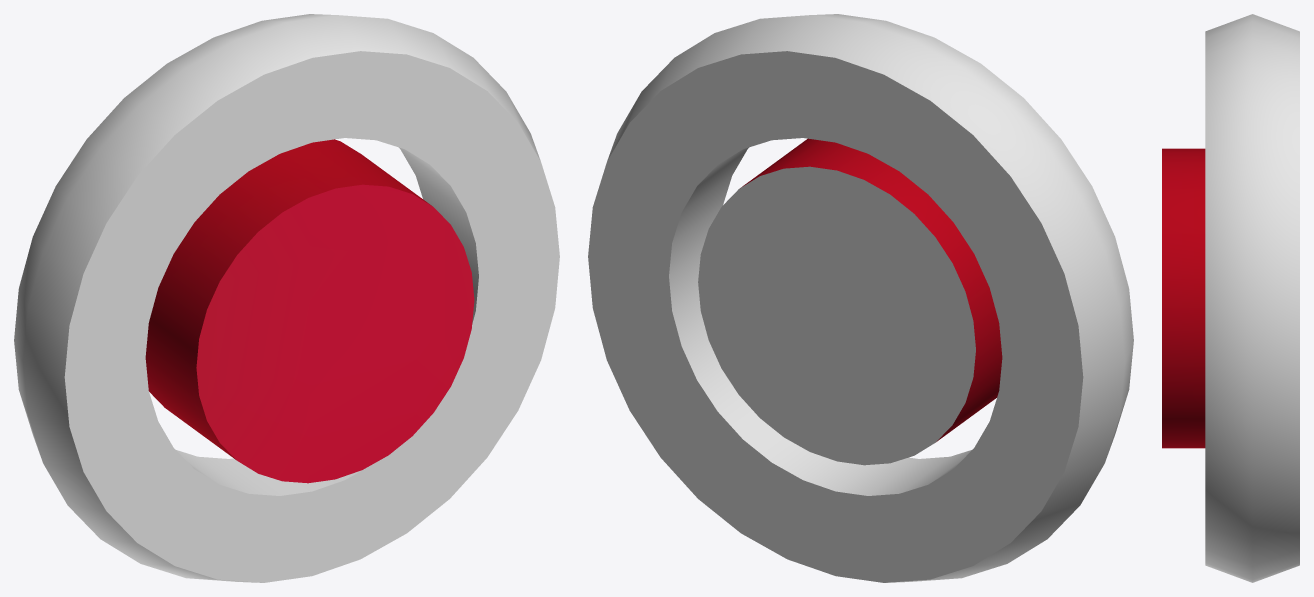
The model's file is e9cfb9fd-8a53-49a8-af6c-c248953678aa.glb.
The picture shows the model from 3 angles, left to right: view 1: azimuth 30°, elevation 25°; view 2: azimuth 150°, elevation 25°; view 3: azimuth 270°, elevation 25°; orthographic projection. The views are drawn at different scales.
Visible parts, largest first — view 1: radioTicked; view 2: radioTicked; view 3: radioTicked.
Boxes of the visible parts, left/top/right/bottom form: radioTicked: left=14, top=14, right=559, bottom=582; radioTicked: left=588, top=14, right=1133, bottom=582; radioTicked: left=1162, top=14, right=1299, bottom=582.
Size of what is drawn, in the model's own units: 0.1536 by 0.1536 by 0.0372.
1 material, 1 textured.
